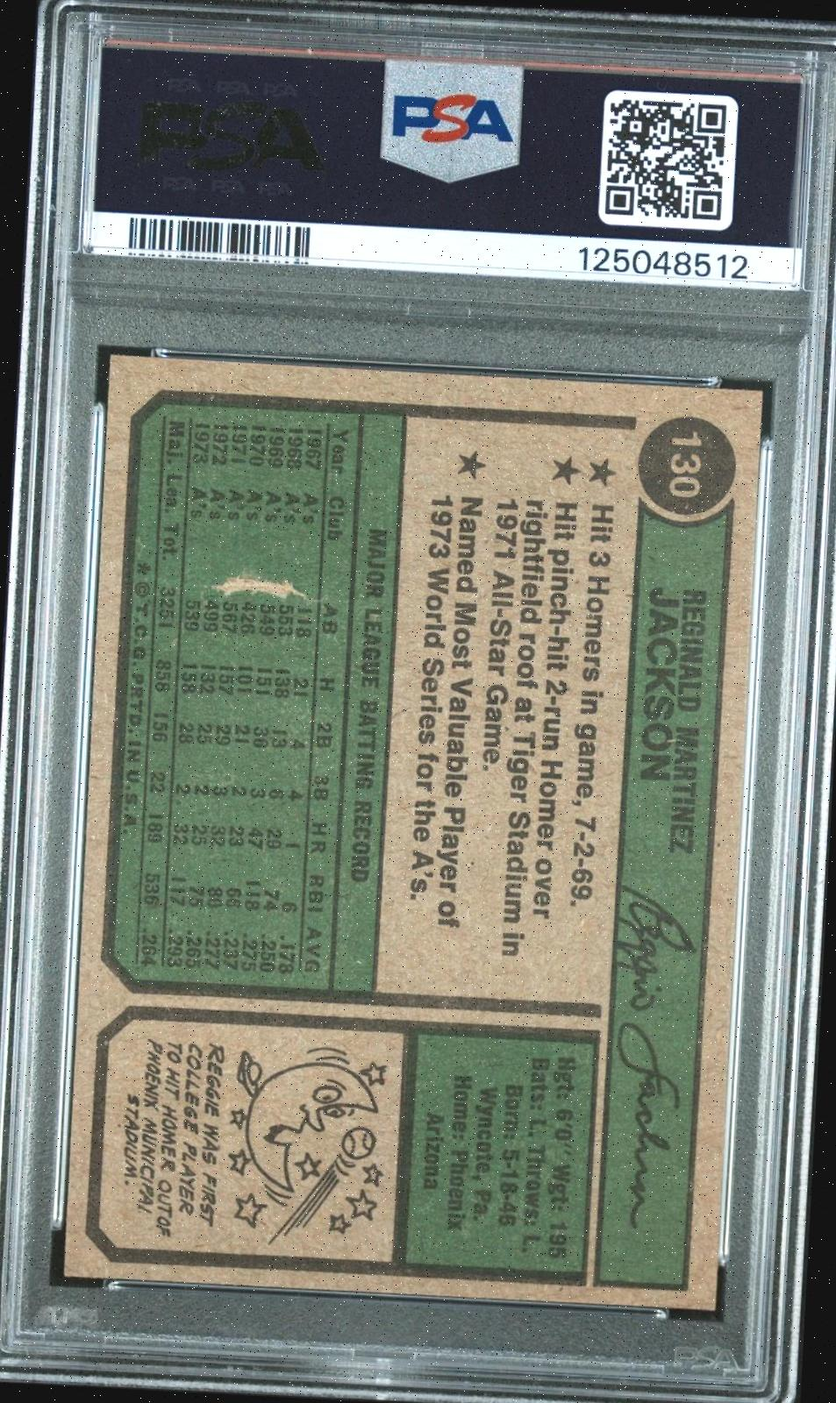card-2UtV: (62, 352, 765, 1312)
